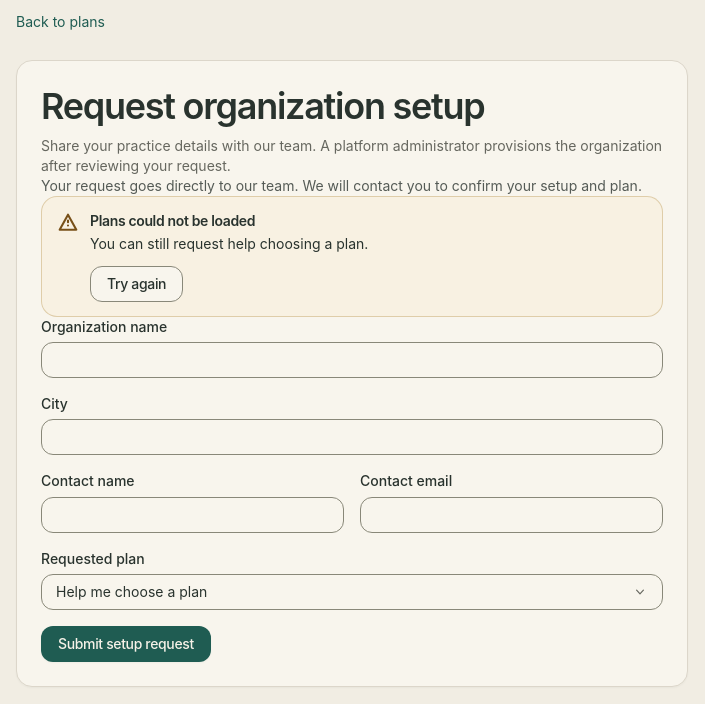
Test case: recovers failed plan loading and waits for auth before choosing a setup flow
The width and height of the screenshot is (705, 704).
Expected: the text "Plans could not be loaded" is shown, top-left (90, 212), bottom-right (255, 229)
Click the button "Try again". click: click(137, 284)
box: top-left (90, 266), bottom-right (183, 302)
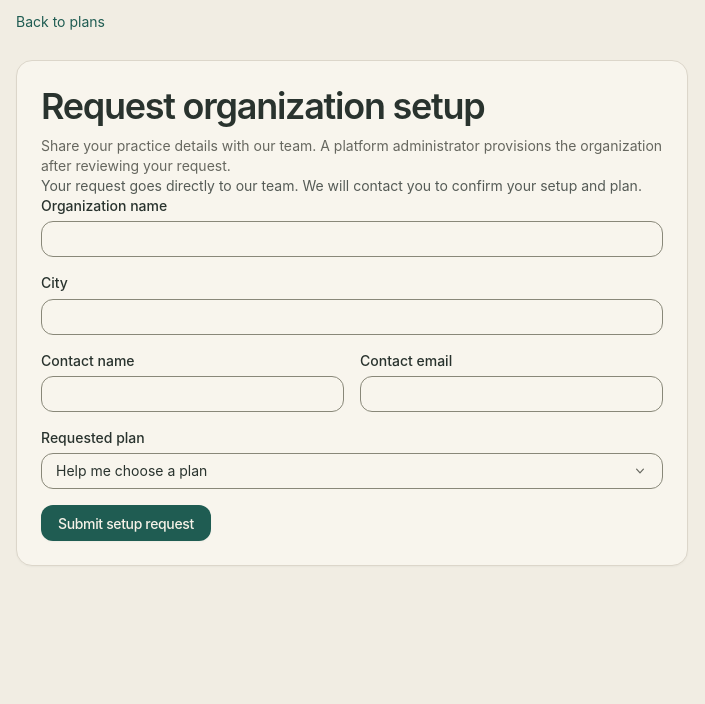
Expected: the text "Plans could not be loaded" is gone
